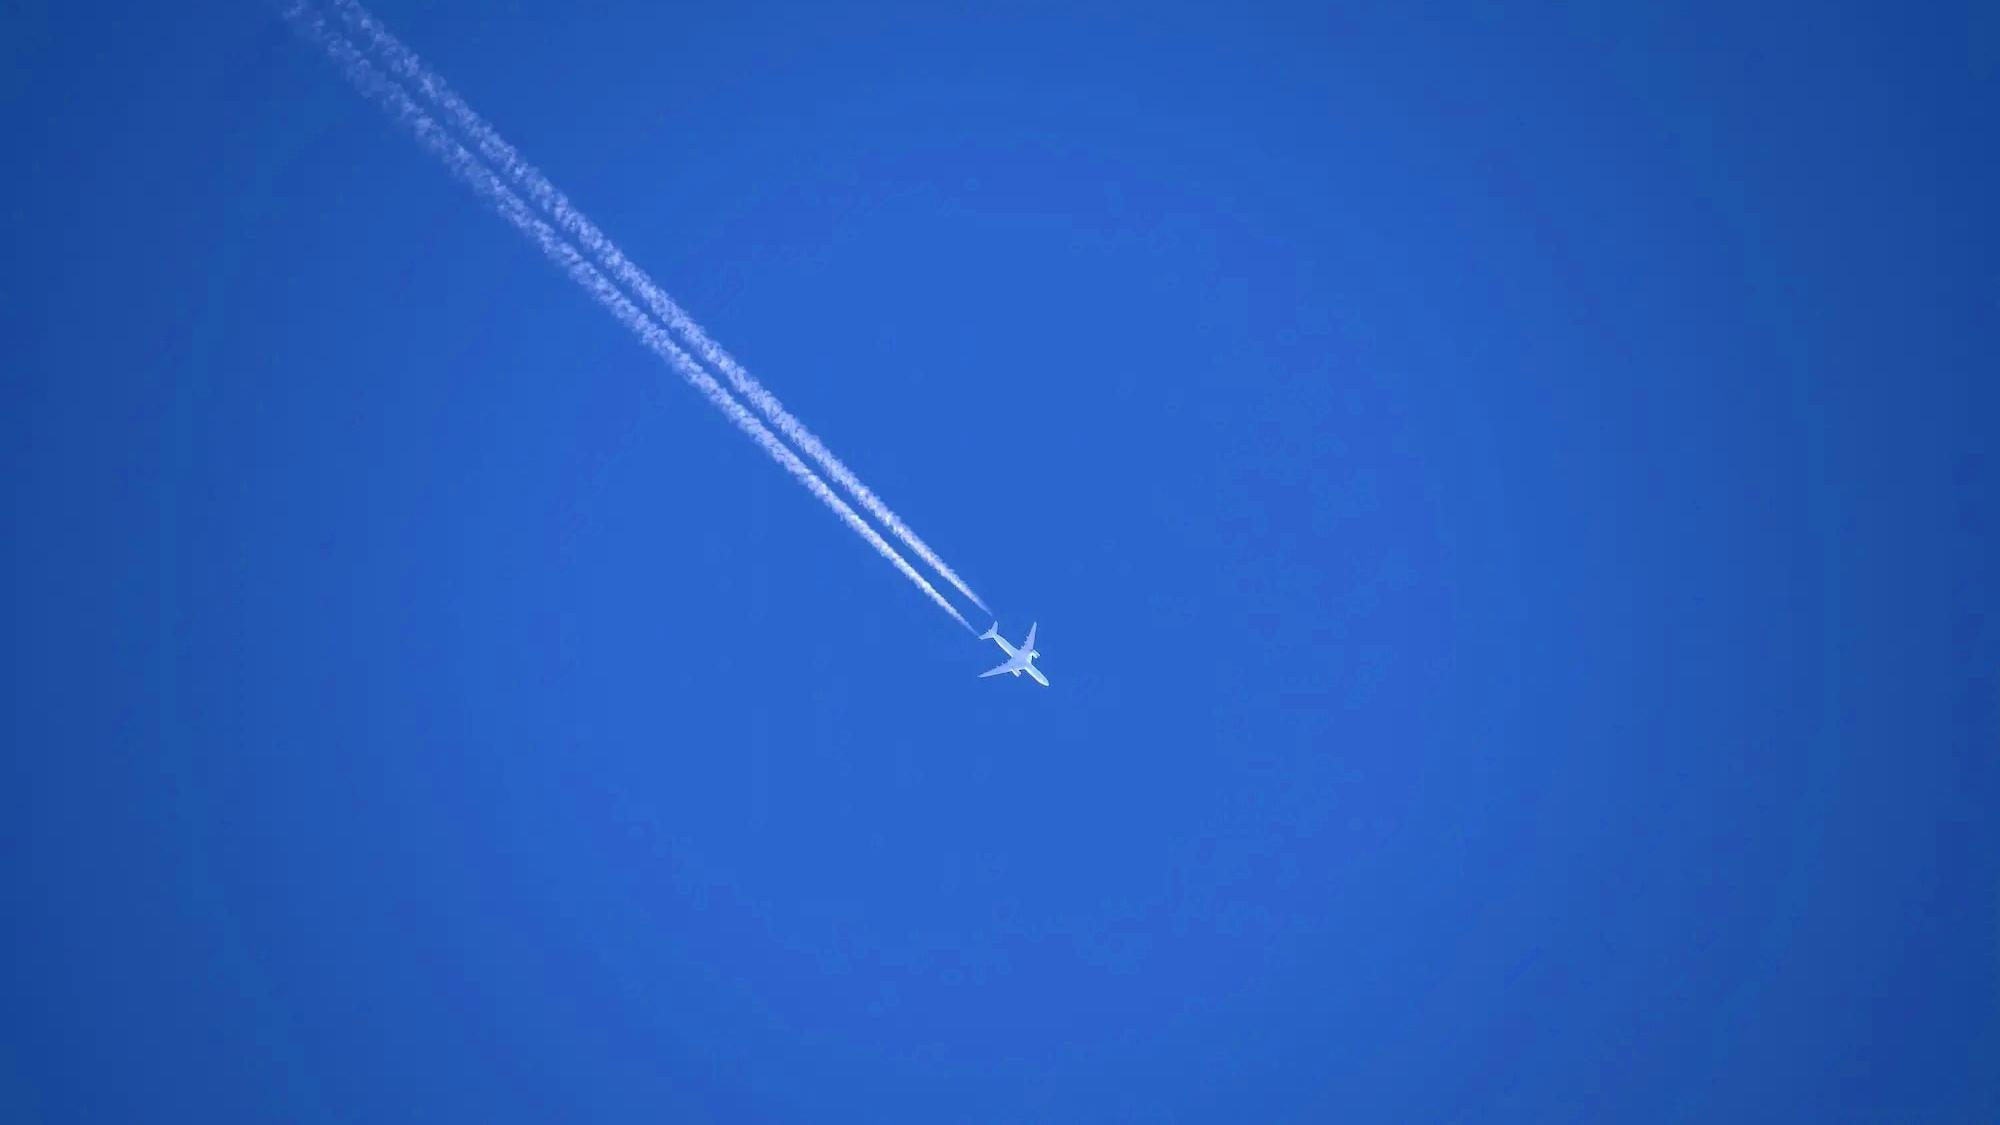Plane: (537, 250, 1128, 687)
